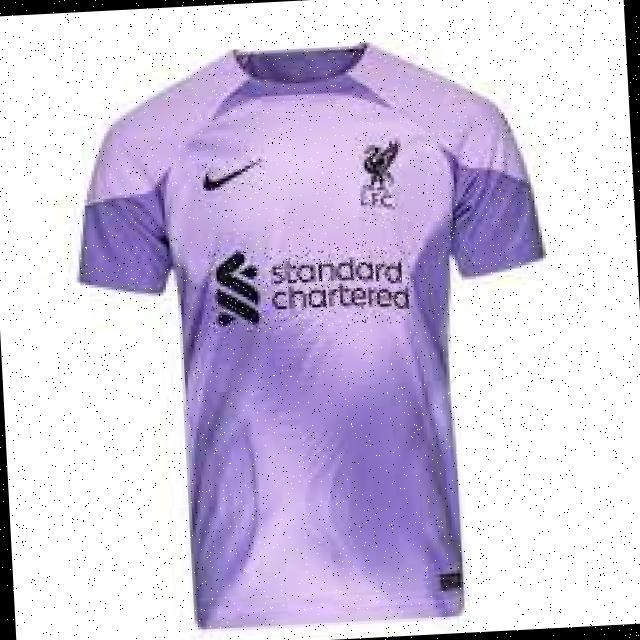Nike: (204, 157, 263, 195)
Standard Chartered: (208, 239, 415, 334)
